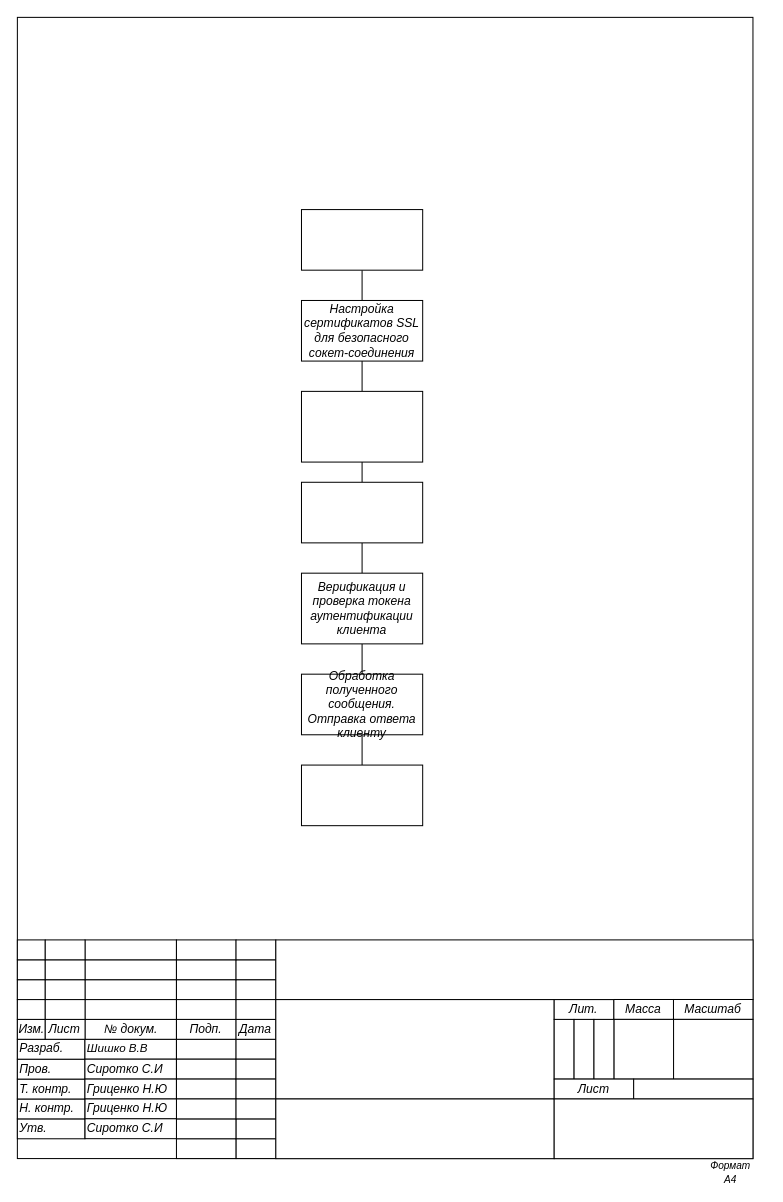
This 783x1202 diagram has some shape labels left out. The shapes that lost their labels are listed below. From the top down, each one's centre as x and y in pixels, then its label:
(361,239): Инициализация программы
(361,426): Идентификация и аунтентификация пользователя для отправки сообщений серверу
(361,512): Отправка и обработка сообщения сервру от клиента
(361,795): Завершение цикла работы программы
(514,969): ГУИР.253502-01 СА
(414,1049): Функциональная схема алгоритма, реализующего программное средство
(693,1088): Листов 1
(653,1128): Кафедра информатики, гр. 253502
